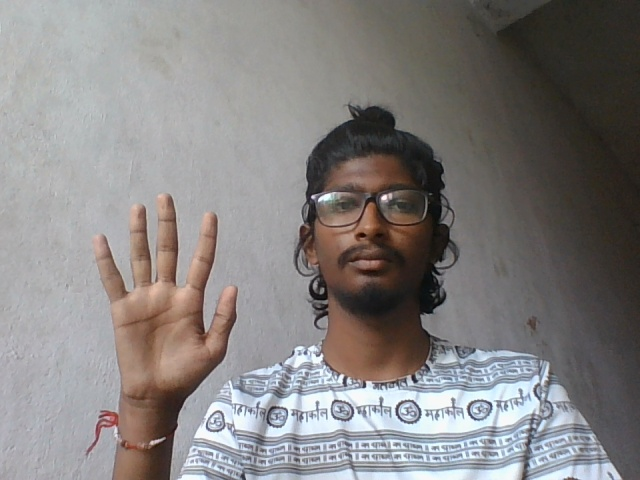Friend: (83, 188, 248, 413)
